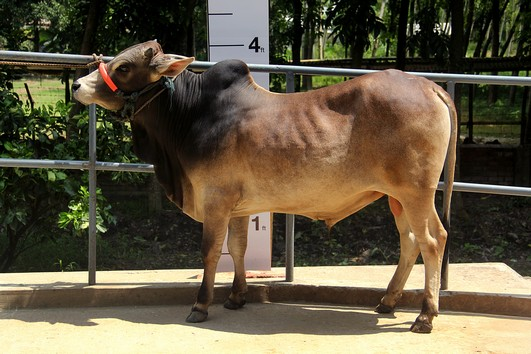cow: (65, 31, 459, 333)
